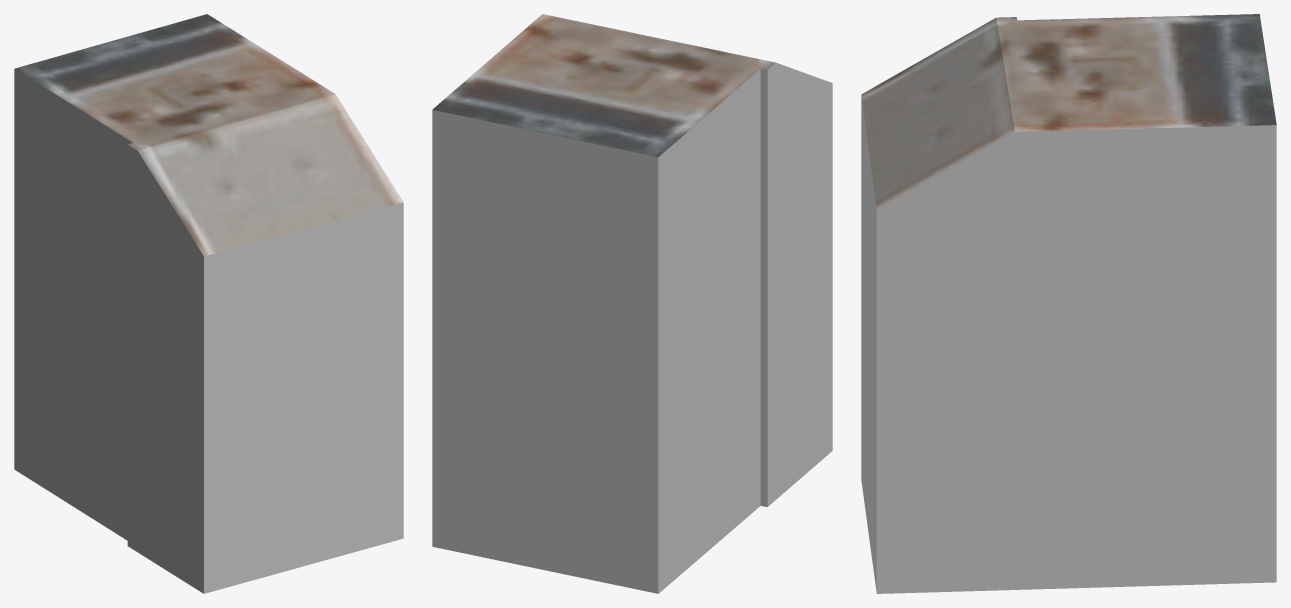
File: DEBW_0010007Tx9c.gltf
3 renders of one model, left to right at view 1: azimuth 30°, elevation 25°; view 2: azimuth 150°, elevation 25°; view 3: azimuth 270°, elevation 25°, orthographic. The views are drawn at different scales.
Visible parts, largest first — view 1: Z_UP; view 2: Z_UP; view 3: Z_UP.
Boxes of the visible parts, x1,y1,x2,y2 form: Z_UP: (14, 14, 403, 593); Z_UP: (432, 14, 832, 593); Z_UP: (861, 14, 1276, 593).
Size of the model in its own units: 9.9 by 17.2 by 14.14.
Materials: 2 (1 with a texture image).
